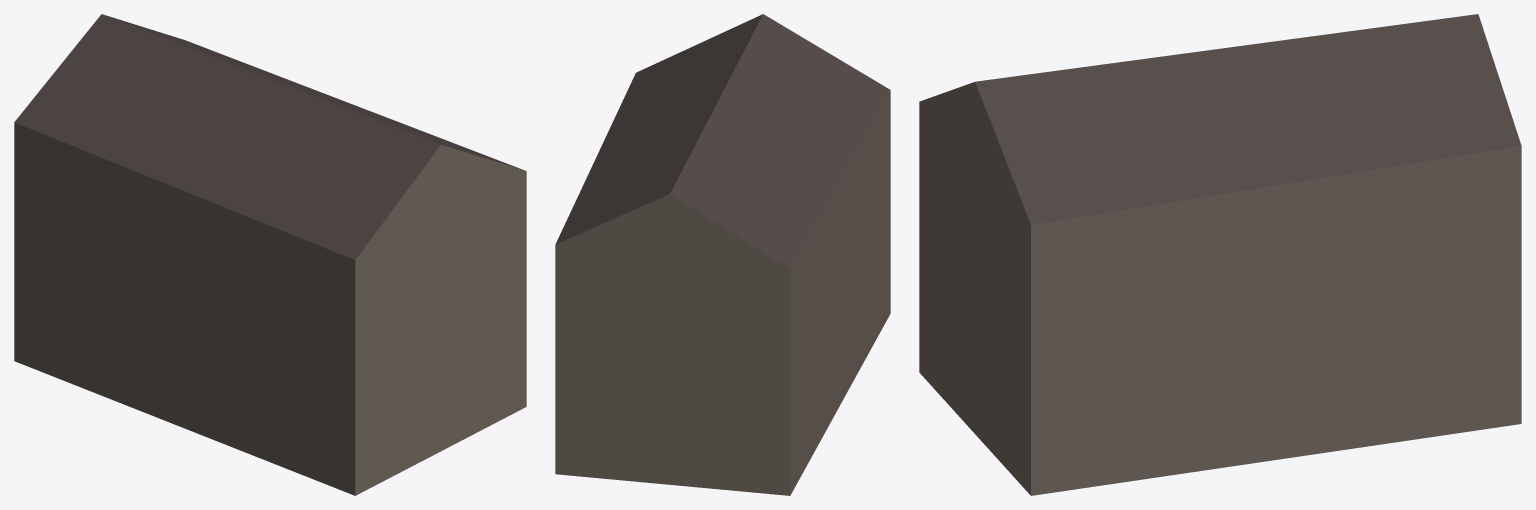
3 renders of one model, left to right at view 1: azimuth 30°, elevation 25°; view 2: azimuth 150°, elevation 25°; view 3: azimuth 270°, elevation 25°, orthographic. The views are drawn at different scales.
Parts seen in each view (by area): view 1: HP-w776801025; view 2: HP-w776801025; view 3: HP-w776801025.
Part boxes in pixels (x1,y1,x2,y2): HP-w776801025: [14, 14, 526, 495]; HP-w776801025: [555, 14, 890, 495]; HP-w776801025: [919, 14, 1521, 495].
Bounding box in the file's own units: 8.99 × 7.81 × 12.09.
